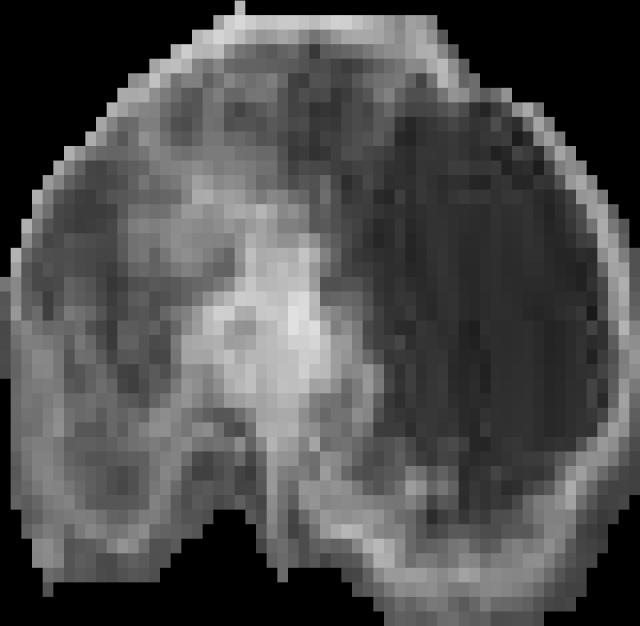tumor_good_chance: (0, 1, 640, 626)
